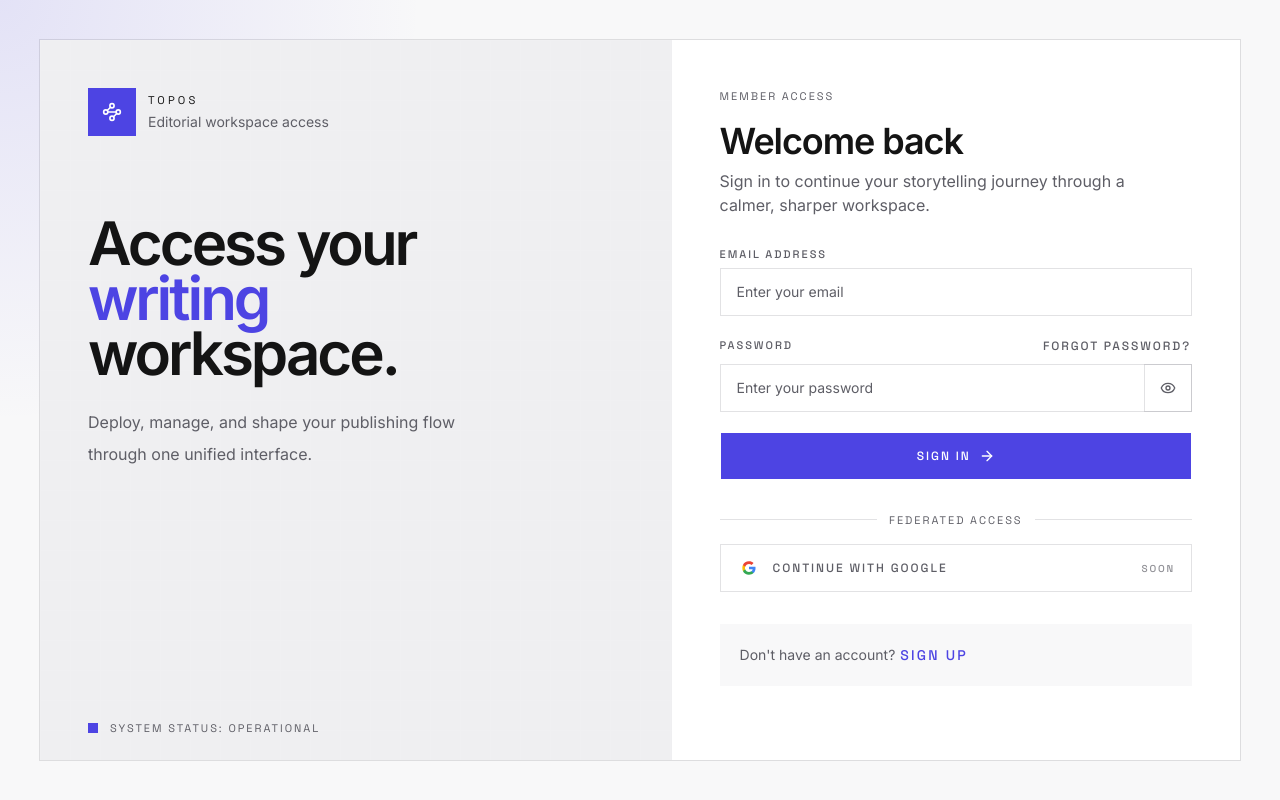
Test: Signin › shows validation errors on empty submit
Click the button "Sign In": [956, 456] box x1=720 y1=432 x2=1192 y2=480
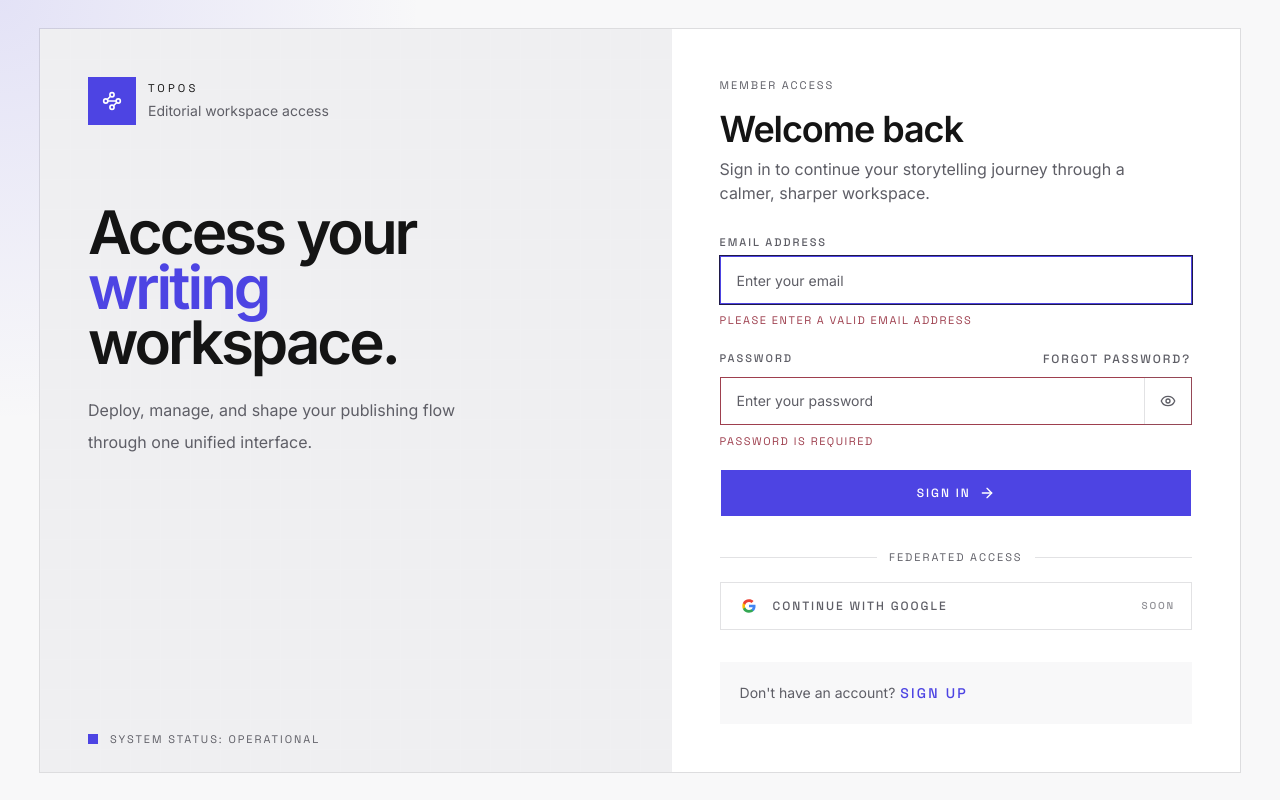
Expected: the text "Please enter a valid email address" is shown, x1=720 y1=313 x2=972 y2=327
Expected: the text "Password is required" is shown, x1=720 y1=434 x2=874 y2=448
